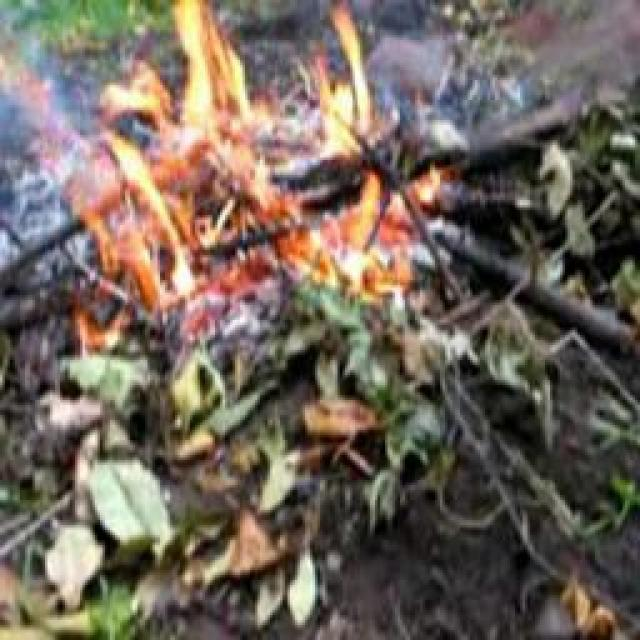Fire: (74, 12, 427, 289)
